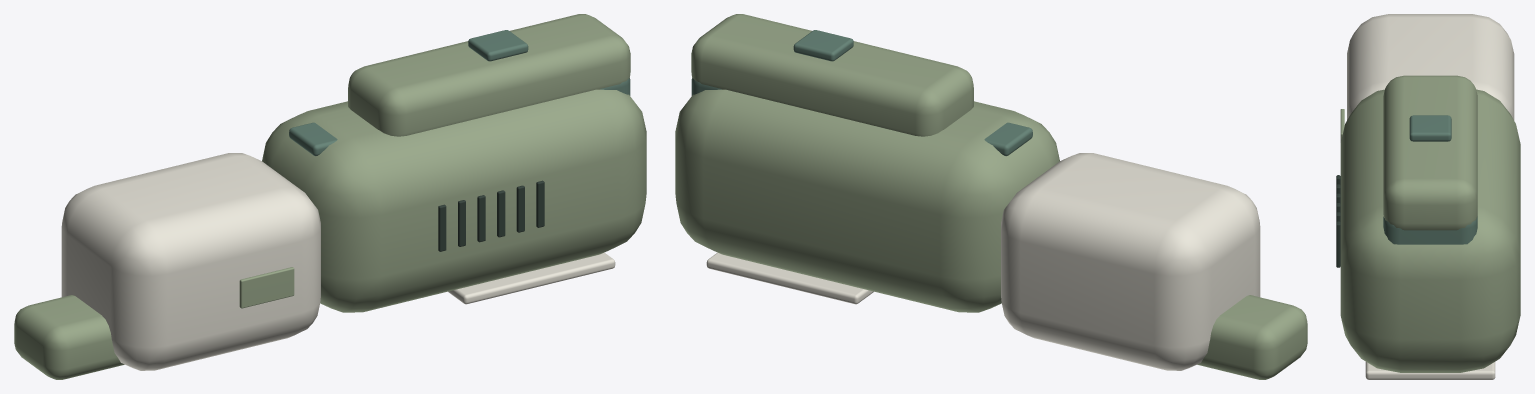
Rendered from service-vac.glb.
The picture shows the model from 3 angles, left to right: view 1: azimuth 30°, elevation 25°; view 2: azimuth 150°, elevation 25°; view 3: azimuth 270°, elevation 25°; orthographic projection. The views are drawn at different scales.
Parts seen in each view (by area): view 1: Motor housing, Dust cup, Service grip, Intake nozzle, Battery service cover, Filter access code, Control switch, Dust release; view 2: Motor housing, Dust cup, Service grip, Intake nozzle, Battery service cover, Control switch, Dust release; view 3: Motor housing, Service grip, Dust cup, Grip stand, Battery service cover, Control switch, Motor vent.005.
Boxes of the visible parts, box(x1,y1,x2,y2) form: Motor housing: box(262, 89, 646, 312); Dust cup: box(61, 153, 320, 370); Service grip: box(348, 14, 630, 136); Intake nozzle: box(14, 295, 124, 379); Battery service cover: box(448, 252, 615, 304); Filter access code: box(239, 267, 294, 308); Control switch: box(468, 30, 528, 61); Dust release: box(289, 122, 337, 156); Motor housing: box(675, 89, 1059, 312); Dust cup: box(1001, 153, 1260, 370); Service grip: box(691, 14, 973, 136); Intake nozzle: box(1197, 295, 1307, 379); Battery service cover: box(706, 252, 873, 304); Control switch: box(793, 30, 853, 61); Dust release: box(984, 122, 1032, 156); Motor housing: box(1340, 89, 1520, 372); Service grip: box(1383, 75, 1477, 230); Dust cup: box(1347, 14, 1514, 120); Grip stand: box(1383, 216, 1477, 244); Battery service cover: box(1365, 362, 1495, 379); Control switch: box(1409, 115, 1451, 141); Motor vent.005: box(1336, 221, 1340, 267).
Bounding box in the file's own units: 0.36 × 0.13 × 0.1.
